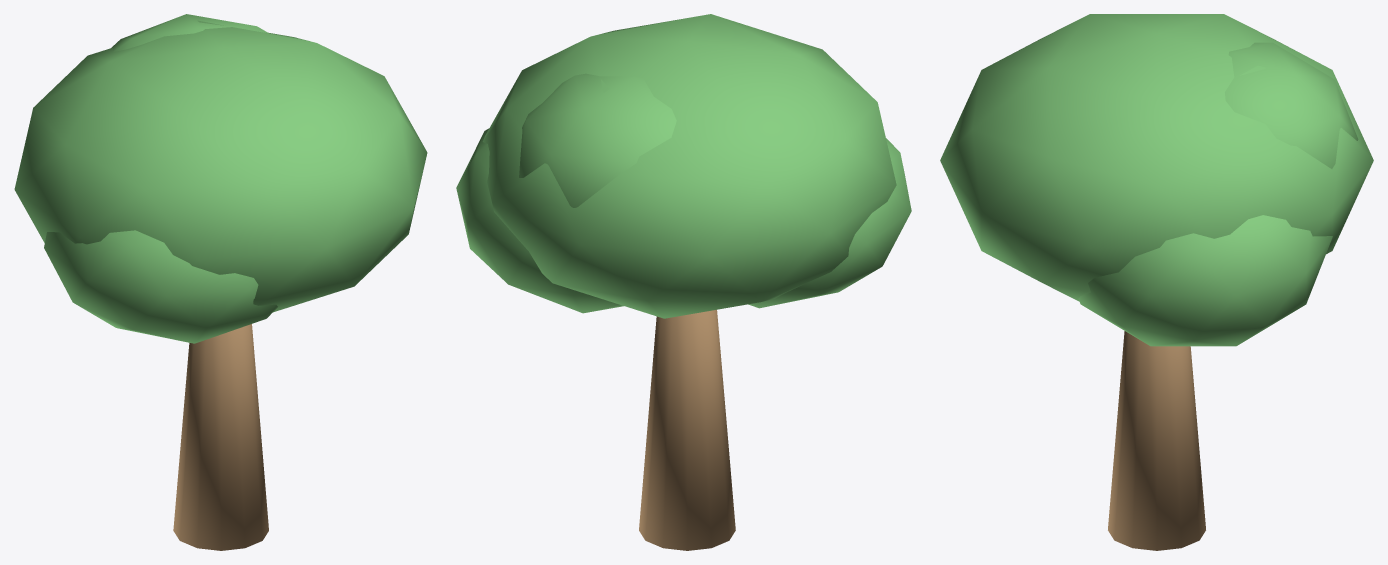
The model's file is Tree_B.fbx.
3 renders of one model, left to right at view 1: azimuth 30°, elevation 25°; view 2: azimuth 150°, elevation 25°; view 3: azimuth 270°, elevation 25°, orthographic. The views are drawn at different scales.
Parts seen in each view (by area): view 1: Tree_B; view 2: Tree_B; view 3: Tree_B.
Part boxes in pixels (x1,y1,x2,y2): Tree_B: (14,14,427,550); Tree_B: (456,14,911,550); Tree_B: (940,14,1373,550).
Bounding box in the file's own units: 263 × 330 × 262.
